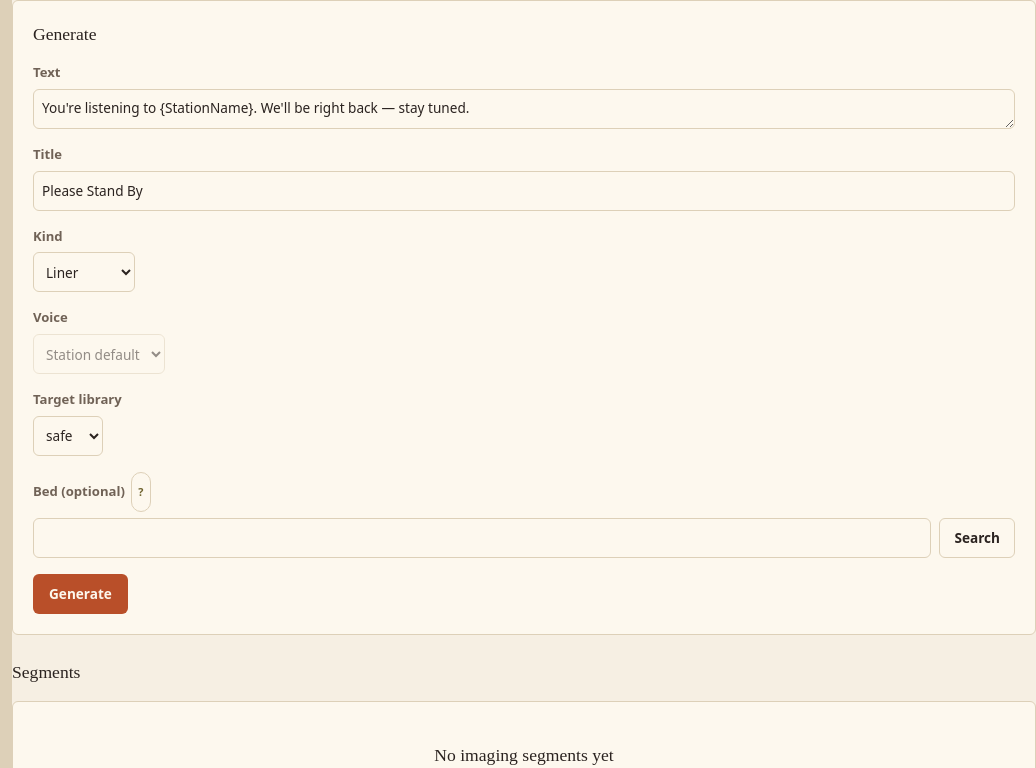
Feature: Station sounds redesign › Scenario: bed picker in the new identity › closes the results on Escape without submitting the outer Generate form
Type "jingle" into the dropdown labelled "Bed (optional)".
click(482, 538); type("jingle")  # box x1=33 y1=518 x2=931 y2=558
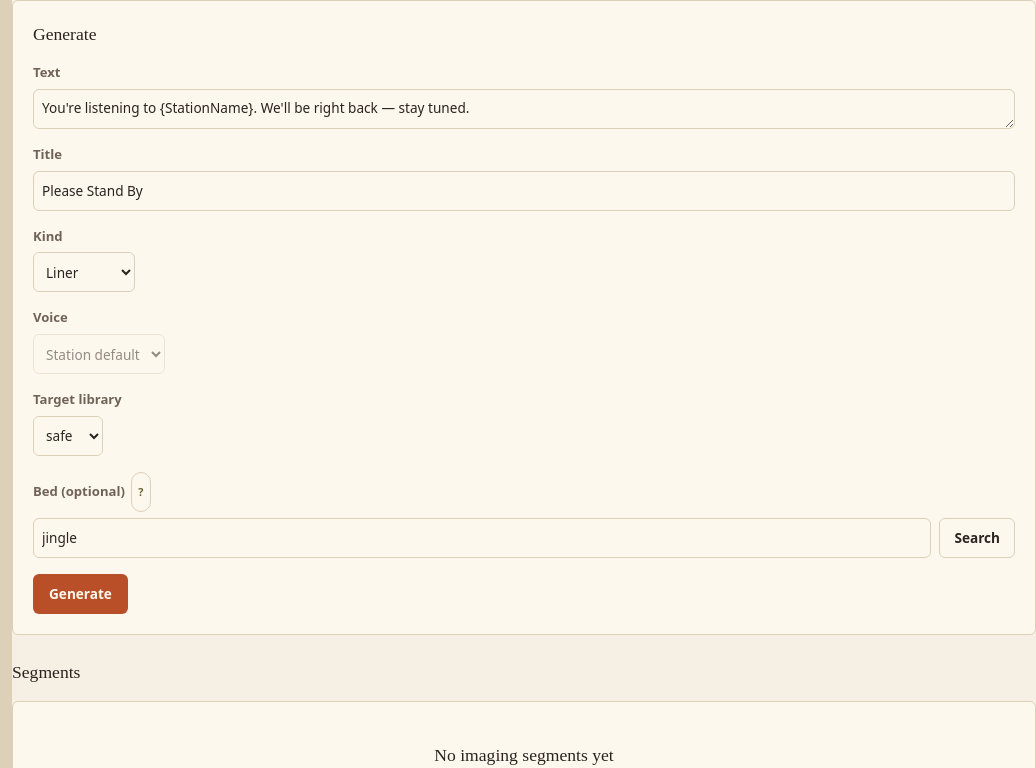
Click the button "Search".
click(977, 538)  # box x1=939 y1=518 x2=1015 y2=558
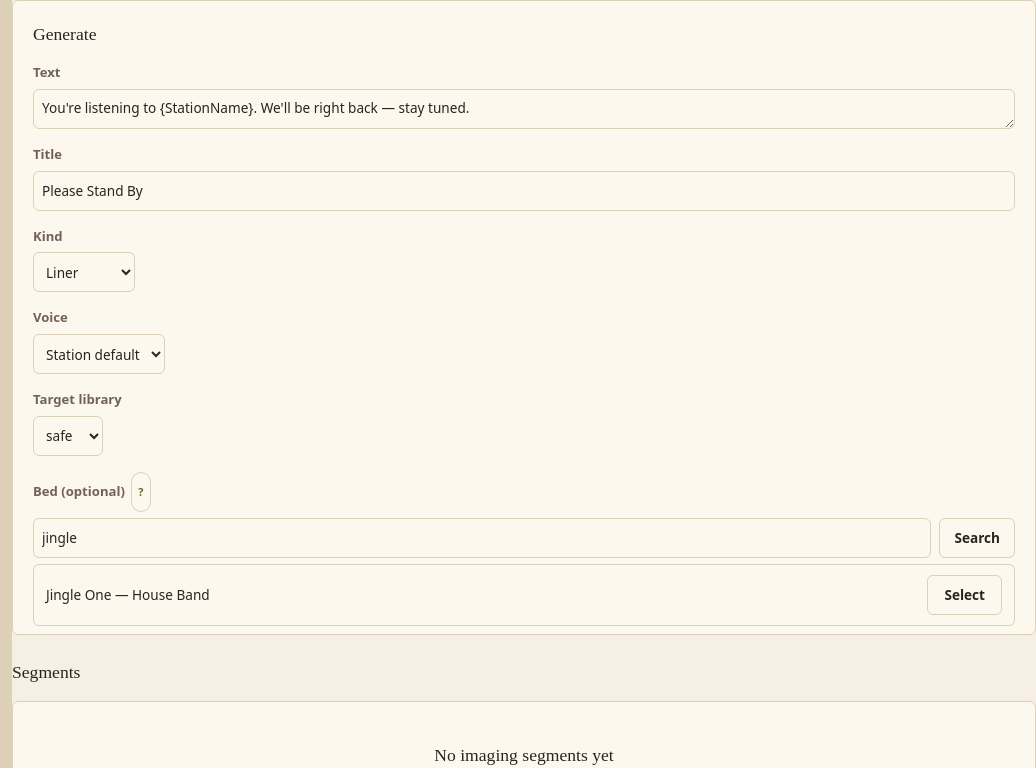
Check: the list is shown, box x1=33 y1=564 x2=1015 y2=626
Press Escape in the dropdown labelled "Bed (optional)", box x1=33 y1=518 x2=931 y2=558
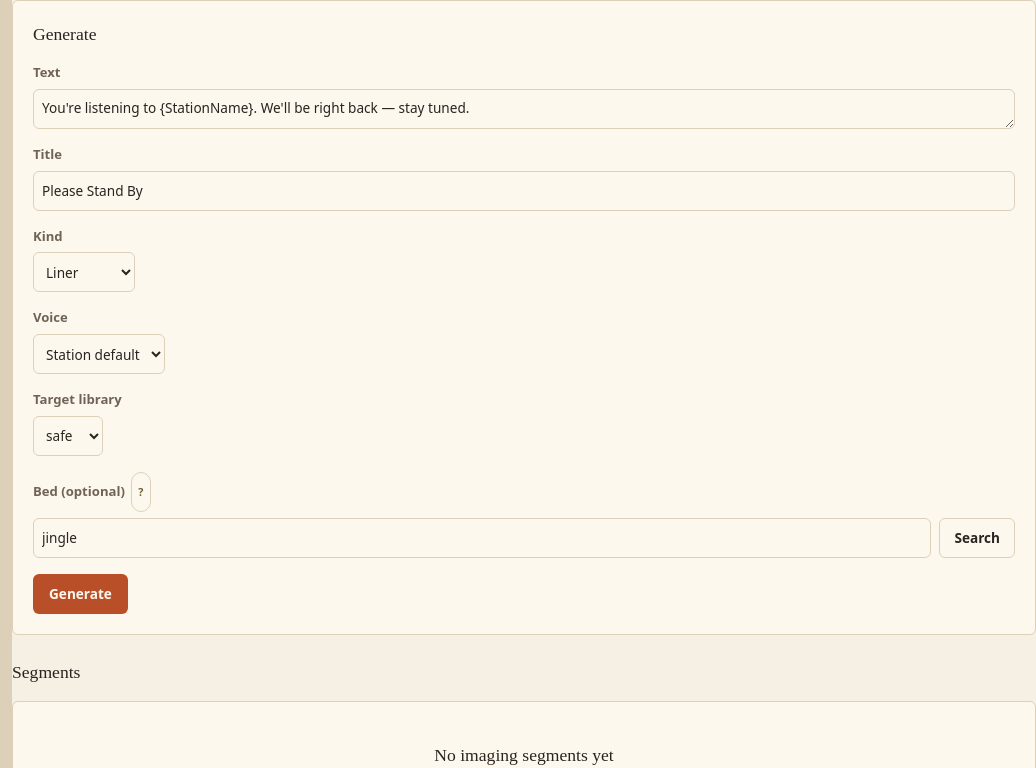
Check: the list is gone
